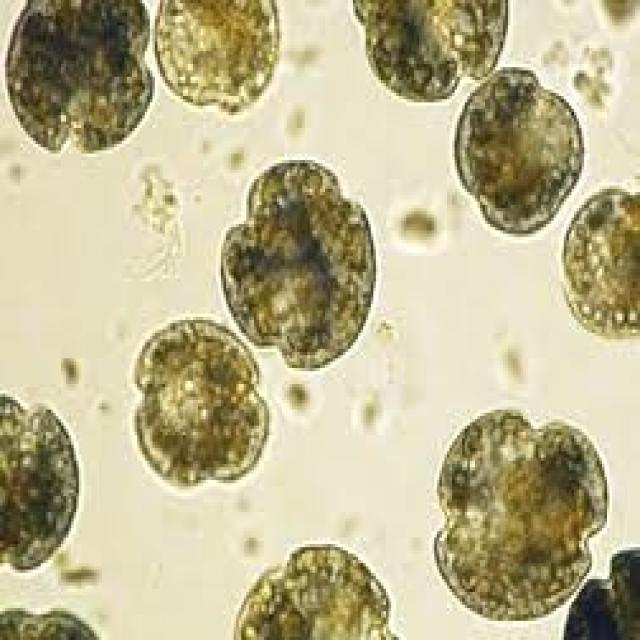Karenia: (428, 404, 615, 629), (219, 162, 379, 364), (450, 64, 596, 234), (1, 1, 153, 145), (126, 330, 270, 480), (217, 548, 402, 640), (1, 382, 85, 577), (154, 1, 286, 114), (559, 182, 640, 345)
